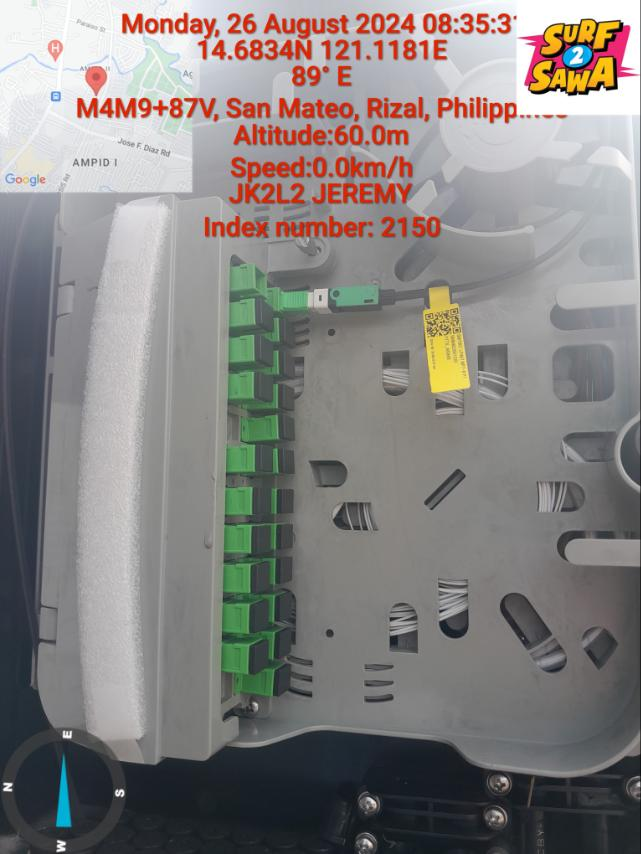no dust cap: (255, 264, 268, 297)
no port: (217, 669, 233, 706), (224, 412, 239, 440)
occupied: (279, 284, 404, 310)
vacant: (252, 640, 269, 674), (258, 298, 274, 331), (257, 336, 274, 367), (253, 561, 269, 593), (252, 600, 268, 631), (257, 371, 273, 400), (253, 489, 271, 514), (255, 526, 271, 554), (257, 445, 273, 472), (278, 591, 292, 621), (277, 664, 290, 696), (280, 414, 295, 441), (281, 384, 296, 411), (279, 489, 295, 514), (281, 449, 296, 475), (279, 627, 291, 659), (279, 524, 293, 549), (283, 320, 296, 346), (280, 557, 292, 584), (284, 352, 296, 378)
